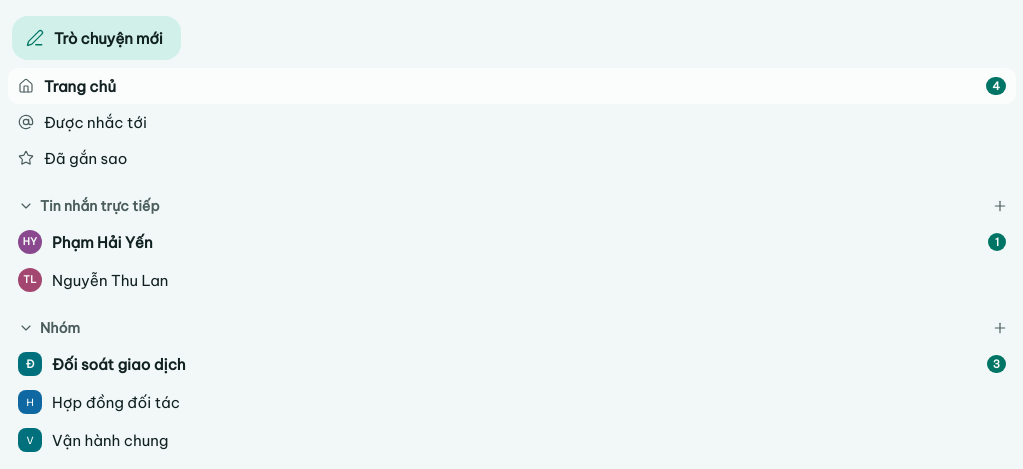
Scenario: ChatNavigator › collapses a section from its header
Expected: the text "Đối soát giao dịch" is shown, [52,352,186,376]
Click the button "Nhóm".
click(60, 328)  # box [12,314,982,342]
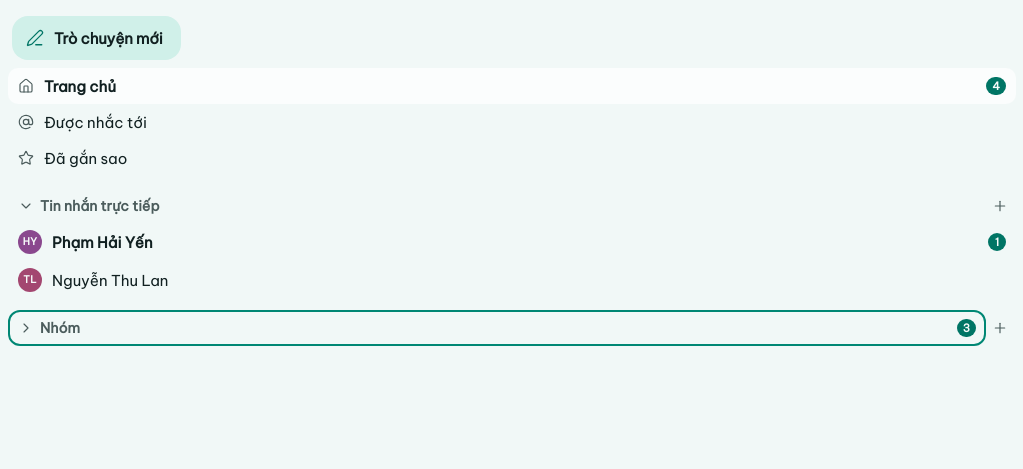
Expected: the button "Nhóm 3" is collapsed, [12,314,982,342]
Expected: the link "Đối soát giao dịch" is gone
